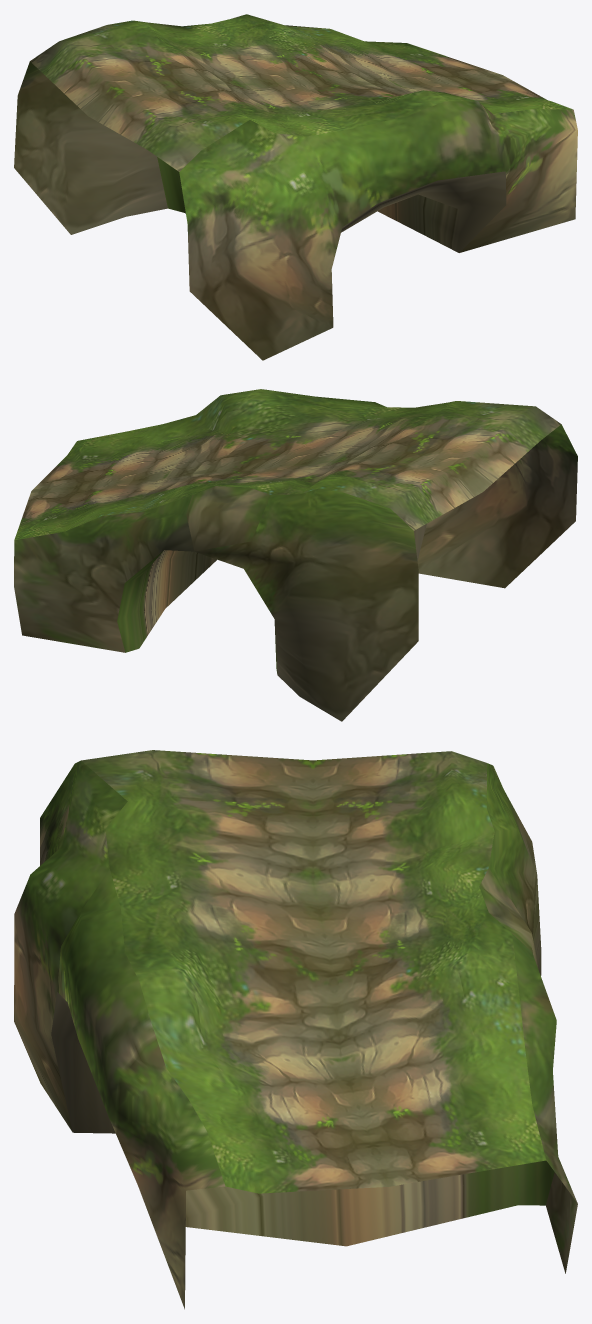
Rendered from daliang_field_d_s02.fbx.
3 renders of one model, top to bottom at view 1: azimuth 30°, elevation 25°; view 2: azimuth 150°, elevation 25°; view 3: azimuth 270°, elevation 25°, orthographic. The views are drawn at different scales.
Parts seen in each view (by area): view 1: daliang_field_d_s02; view 2: daliang_field_d_s02; view 3: daliang_field_d_s02.
Boxes of the visible parts, bbox=[...] form: daliang_field_d_s02: bbox=[14, 14, 577, 360]; daliang_field_d_s02: bbox=[14, 389, 577, 721]; daliang_field_d_s02: bbox=[14, 750, 577, 1309].
Bounding box in the file's own units: 2155 × 1014 × 1666.
